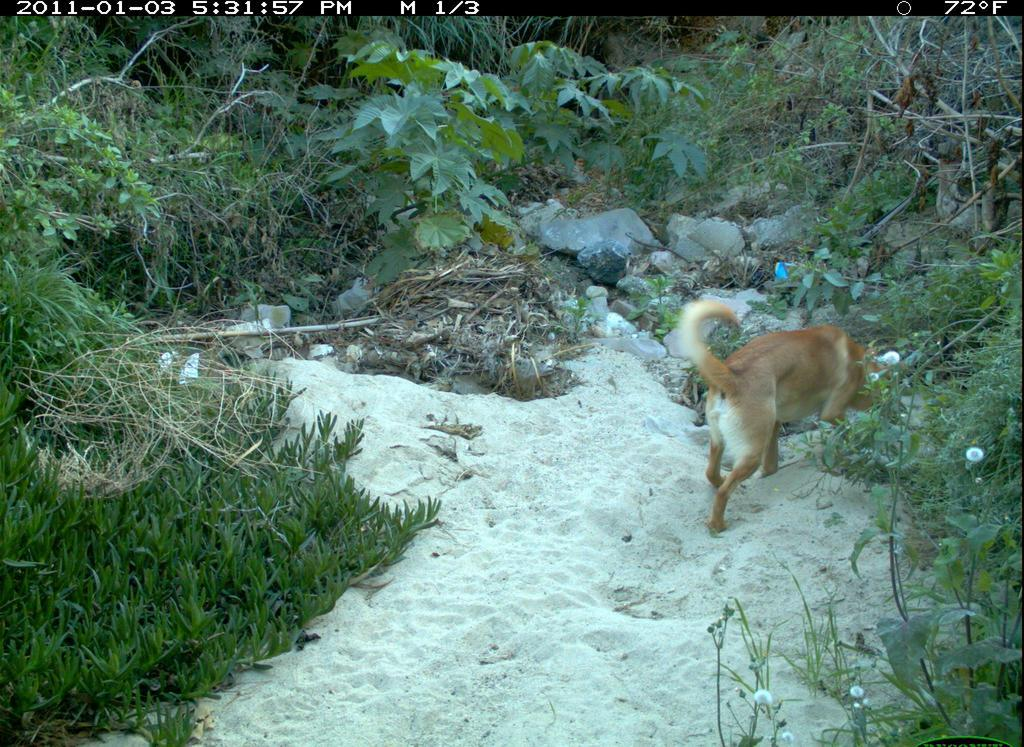dog: (662, 287, 934, 552)
